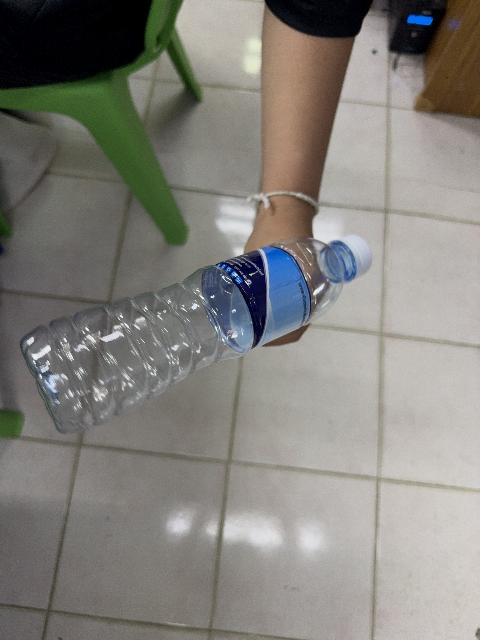bottle: (20, 236, 370, 433)
